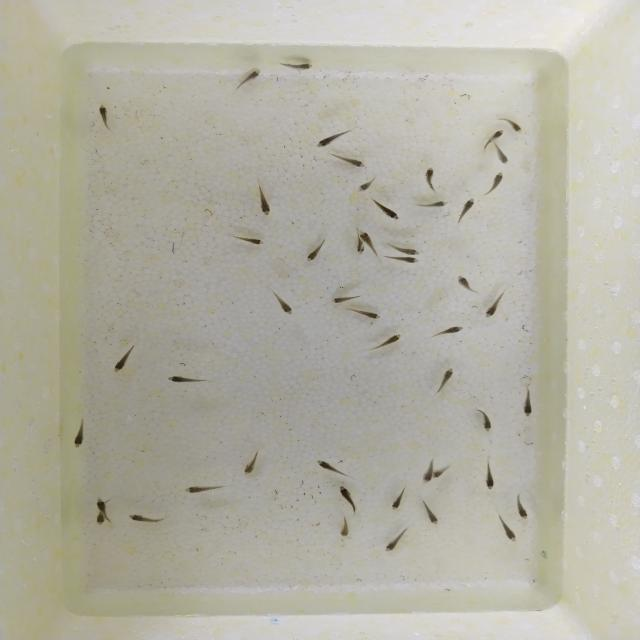fingerling: (251, 187, 276, 219), (300, 240, 326, 268), (110, 348, 136, 376), (314, 458, 350, 478), (480, 466, 510, 490), (168, 372, 208, 387), (336, 484, 356, 514), (421, 498, 441, 528), (383, 531, 409, 554), (237, 69, 266, 89), (96, 103, 115, 133), (72, 423, 88, 455), (311, 133, 341, 150), (125, 513, 171, 524), (185, 480, 221, 494), (518, 391, 536, 419), (497, 520, 518, 544), (482, 298, 502, 322), (474, 408, 494, 432), (455, 273, 476, 295), (278, 296, 300, 316), (335, 155, 366, 169), (417, 198, 451, 210), (514, 495, 531, 519), (392, 486, 408, 511), (436, 368, 453, 391), (240, 236, 270, 248), (338, 518, 354, 540), (425, 167, 438, 194), (329, 294, 359, 305), (358, 310, 385, 322), (493, 146, 510, 165), (357, 228, 376, 245), (278, 61, 316, 69), (379, 206, 399, 221), (96, 496, 112, 514), (242, 456, 256, 475), (381, 334, 404, 345), (93, 514, 109, 529), (494, 171, 505, 191), (461, 198, 473, 216), (397, 247, 421, 256), (357, 180, 372, 193), (392, 258, 421, 264), (442, 326, 466, 333), (511, 120, 521, 135), (422, 468, 432, 483), (490, 128, 502, 140), (355, 244, 366, 256), (434, 468, 450, 476)
